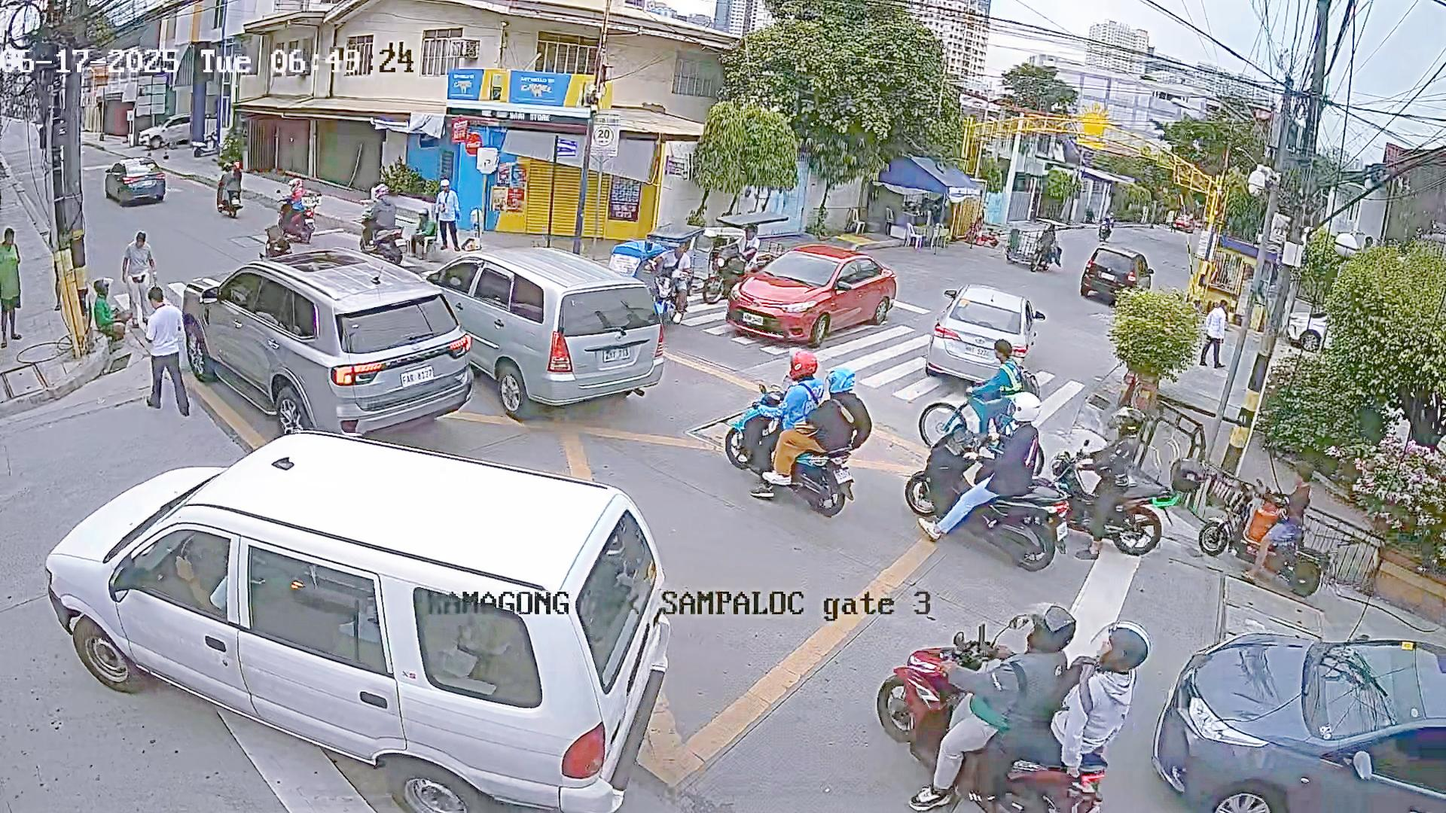Car: (8, 402, 689, 813), (148, 246, 501, 458), (1167, 580, 1446, 813), (386, 216, 684, 414), (893, 258, 1063, 402), (713, 239, 925, 344), (1072, 237, 1151, 329), (90, 148, 174, 233)
Motor: (845, 578, 1162, 813), (710, 324, 894, 535), (898, 387, 1066, 581), (1054, 405, 1182, 559)
